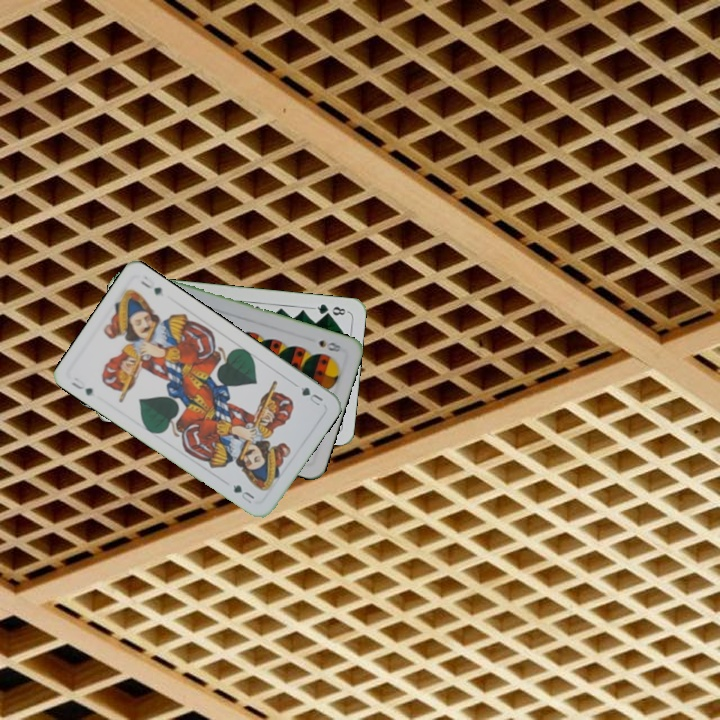G8: (310, 300, 350, 318)
GU: (297, 383, 325, 409), (67, 373, 96, 398)
S8: (315, 336, 347, 355)
